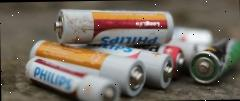electronic: (47, 5, 183, 49)
